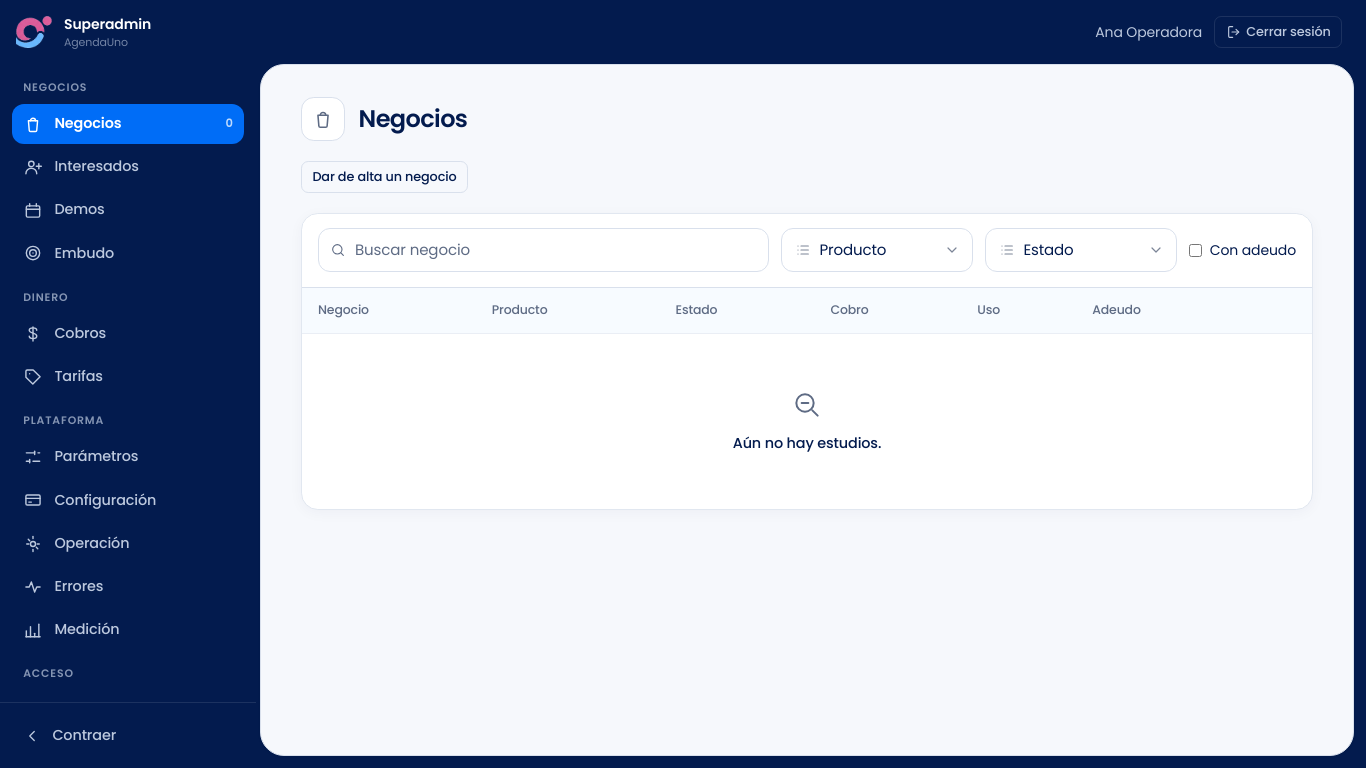
Test: entrada del superadmin en dos pasos › dentro, el armazón del panel: menú lateral por grupos, sin enlaces públicos, y solo «Cerrar sesión» sale
This screenshot has width=1366, height=768.
Expected: the elements with class "lp-titulo" read "Negocios", "Dinero", "Plataforma", "Acceso", in this order, [23, 80, 87, 95]; [23, 290, 68, 305]; [23, 413, 104, 428]; [23, 666, 74, 681]
Expected: the heading "Negocios" is shown, [359, 104, 467, 134]
Click the button "Tarifas": (128, 377) [12, 356, 244, 397]
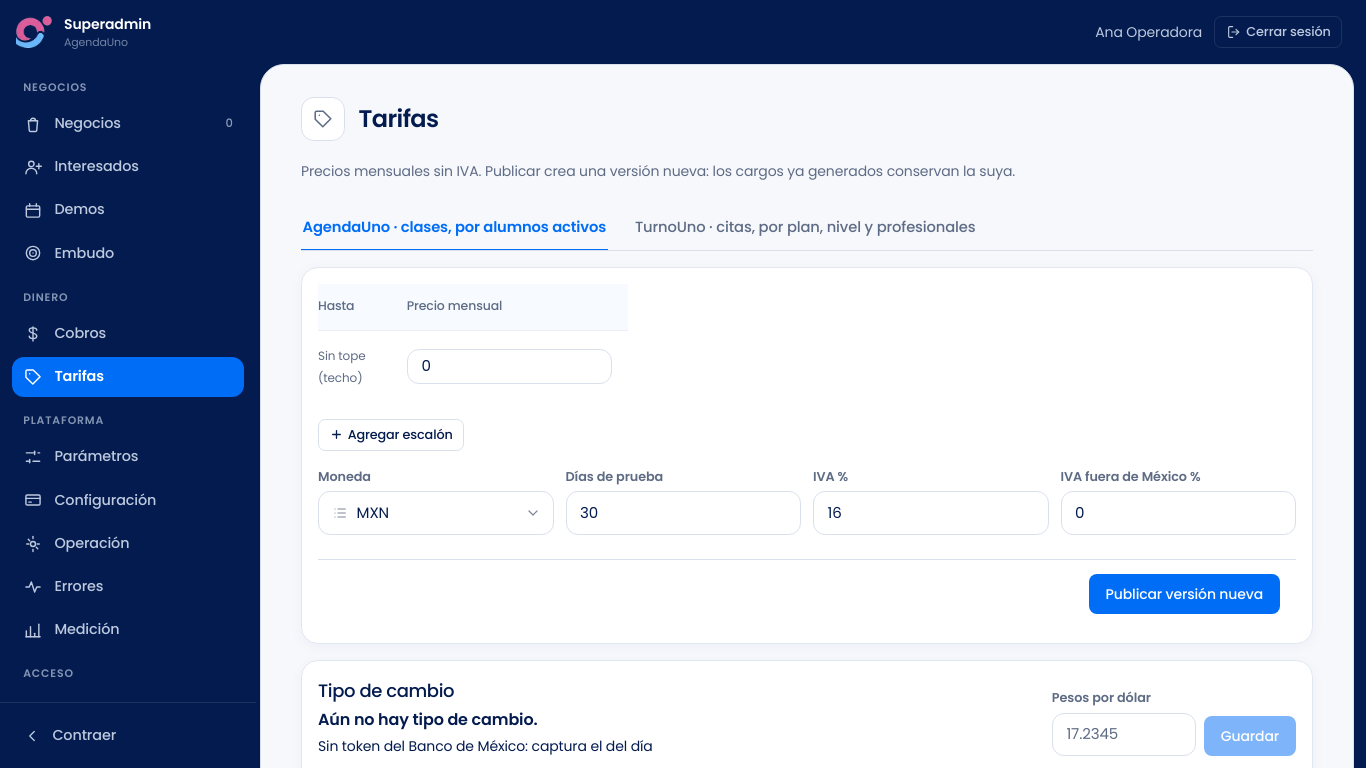
Expected: the heading "Tarifas" is shown, [359, 104, 438, 134]
Click the button "Cerrar sesión": (1278, 32) [1214, 16, 1342, 48]
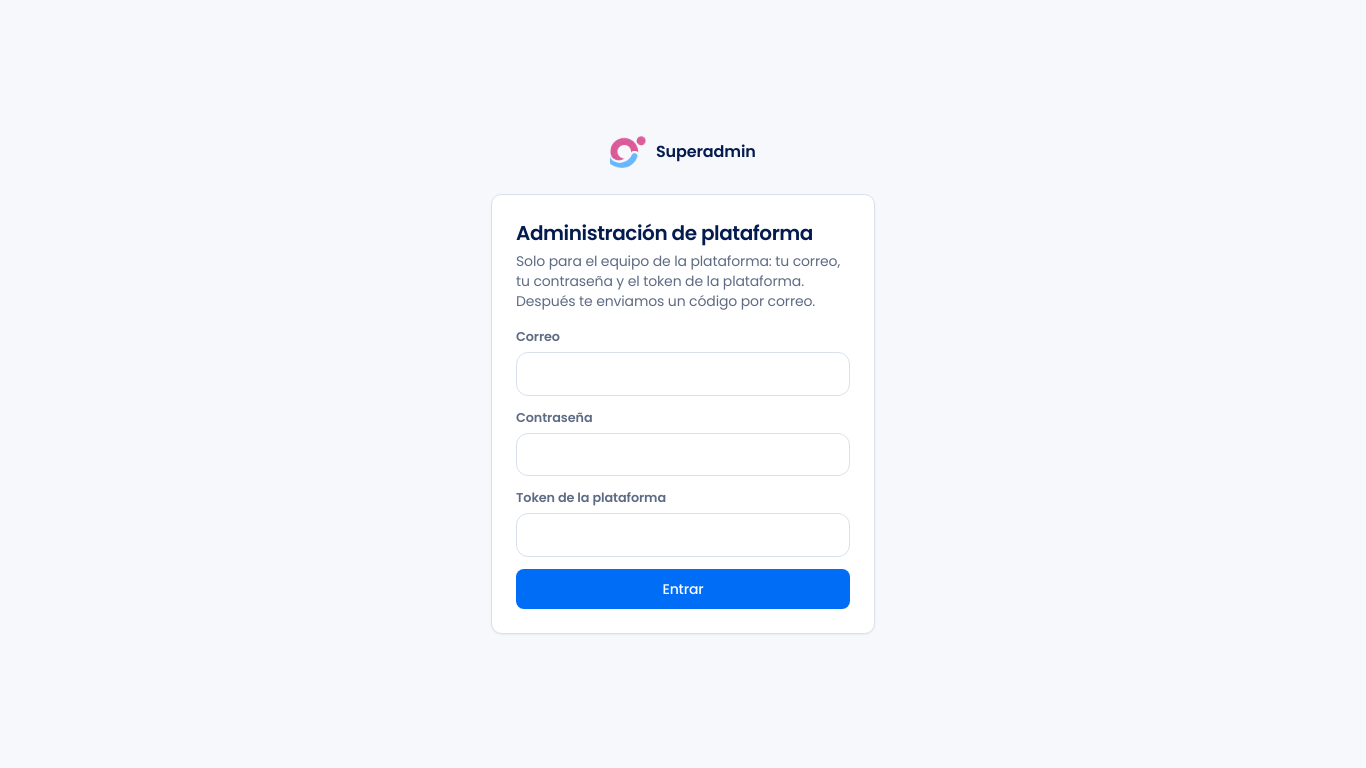
Expected: the field labelled "Correo" is shown, [516, 352, 850, 396]
